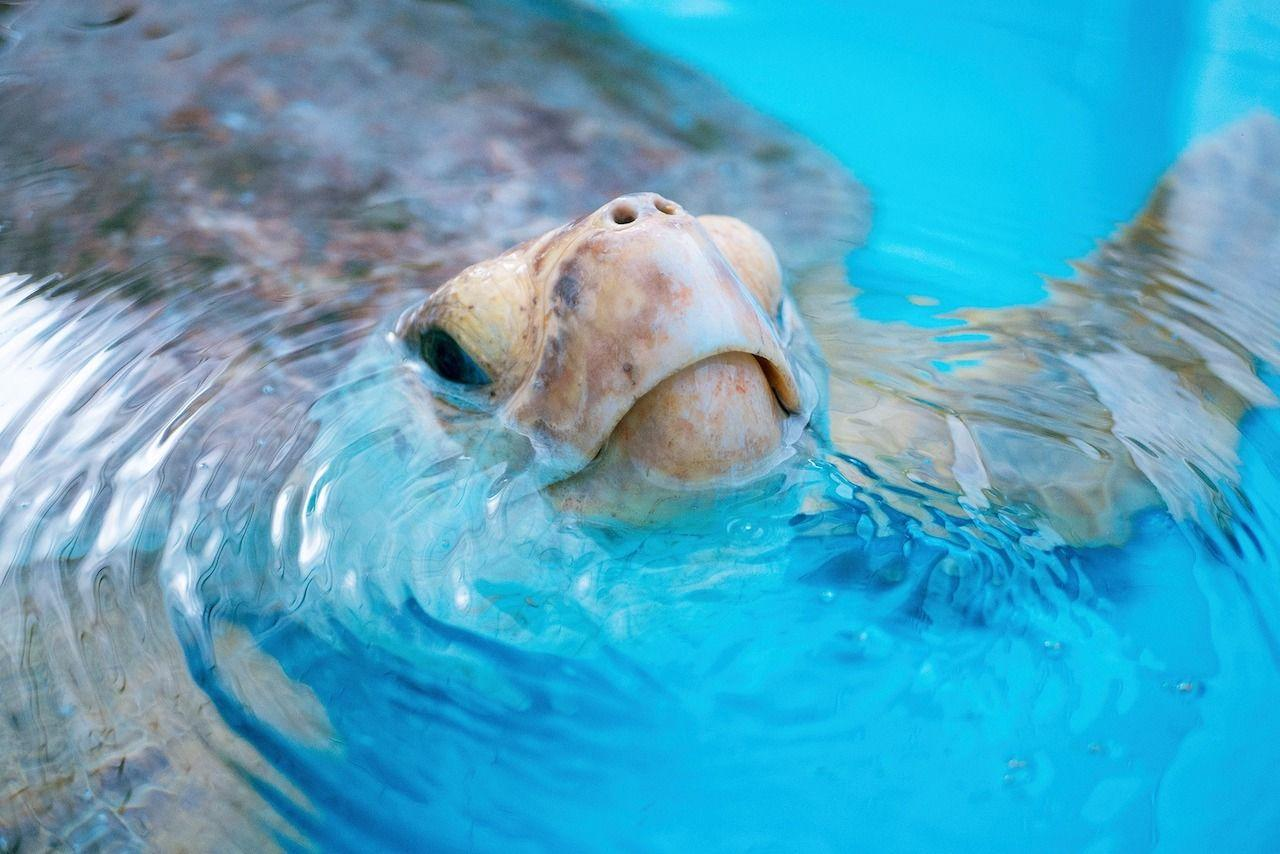turtle: (367, 179, 842, 571)
